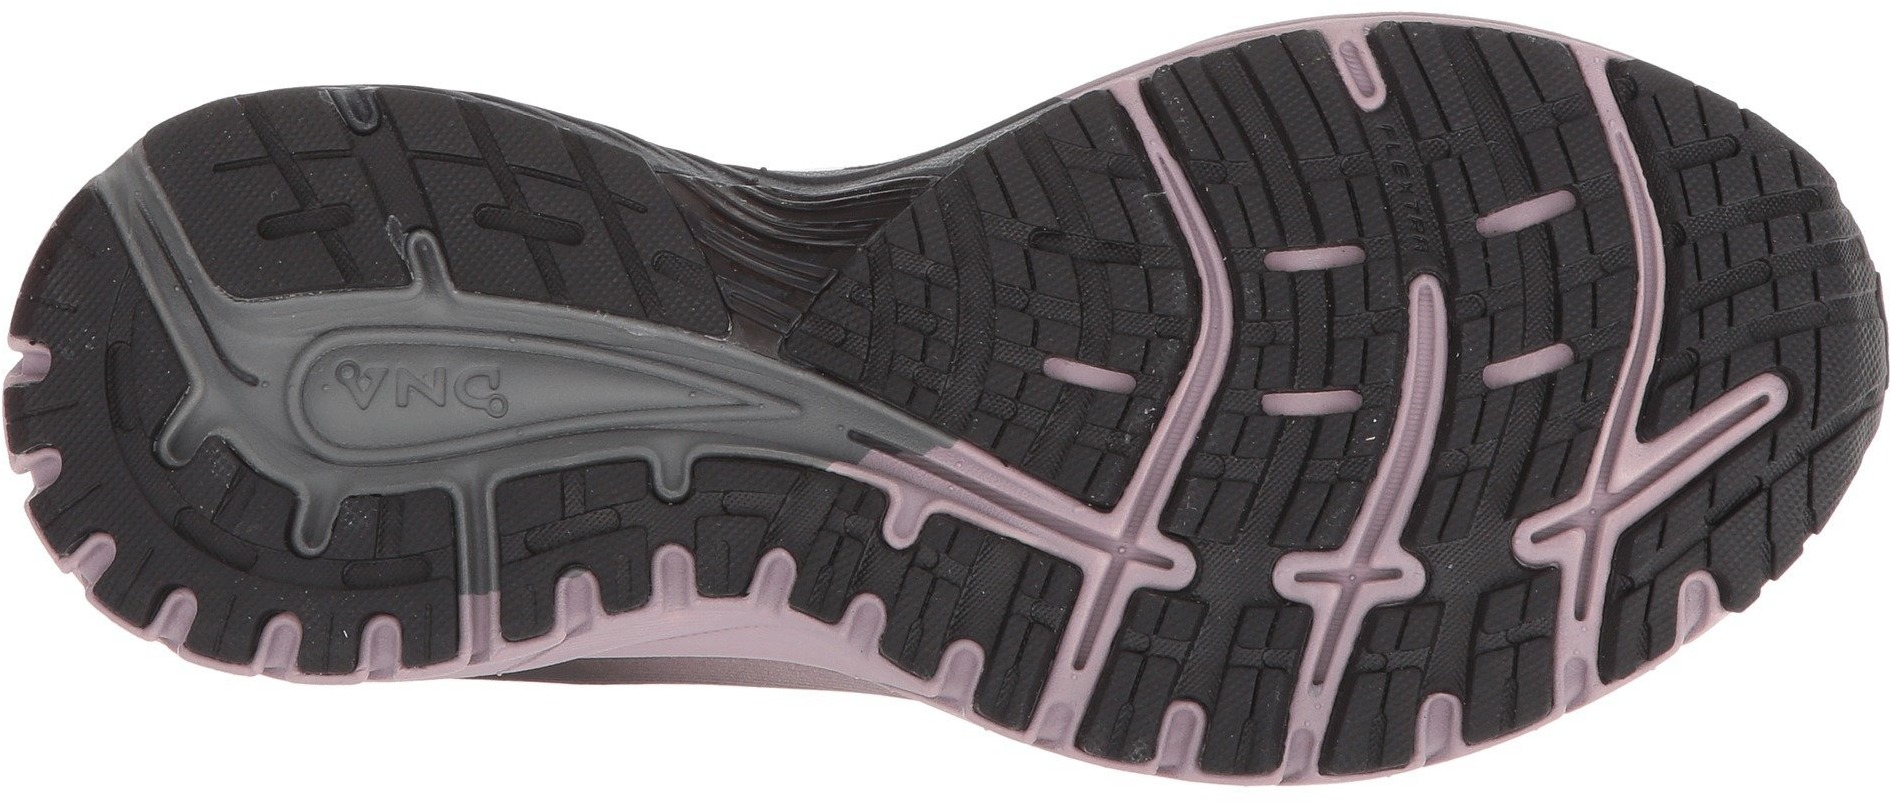circle: (313, 339, 522, 435)
line: (1394, 123, 1637, 373)
quad: (903, 174, 1169, 447), (1394, 123, 1637, 373), (1211, 322, 1405, 487), (1205, 74, 1383, 244), (1688, 191, 1844, 361)
text: (1394, 123, 1637, 373), (313, 339, 522, 435), (354, 336, 475, 449)
triangle: (1776, 392, 1887, 554)
